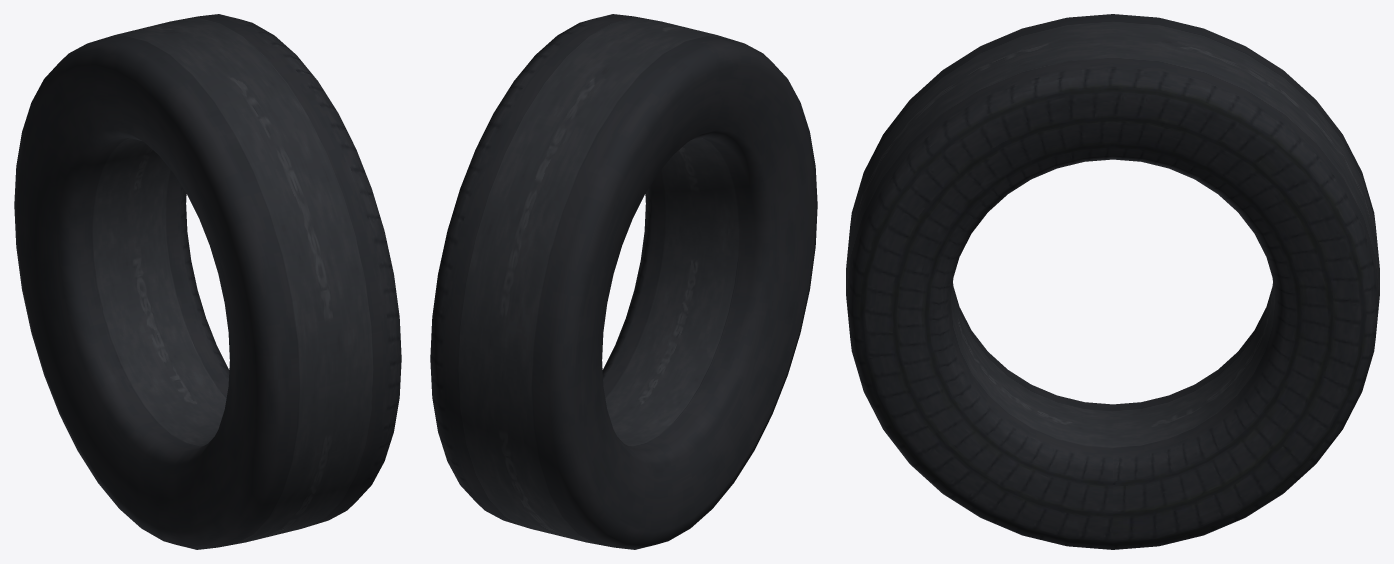
The model's file is vuena-gs-tire.glb.
3 renders of one model, left to right at view 1: azimuth 30°, elevation 25°; view 2: azimuth 150°, elevation 25°; view 3: azimuth 270°, elevation 25°, orthographic.
Visible parts, largest first — view 1: gs_tire; view 2: gs_tire; view 3: gs_tire.
Boxes of the visible parts, x1,y1,x2,y2 form: gs_tire: (14, 14, 401, 549); gs_tire: (430, 14, 817, 549); gs_tire: (846, 14, 1379, 549).
Bounding box in the file's own units: 0.206 × 0.654 × 0.654.
1 material, 1 textured.
